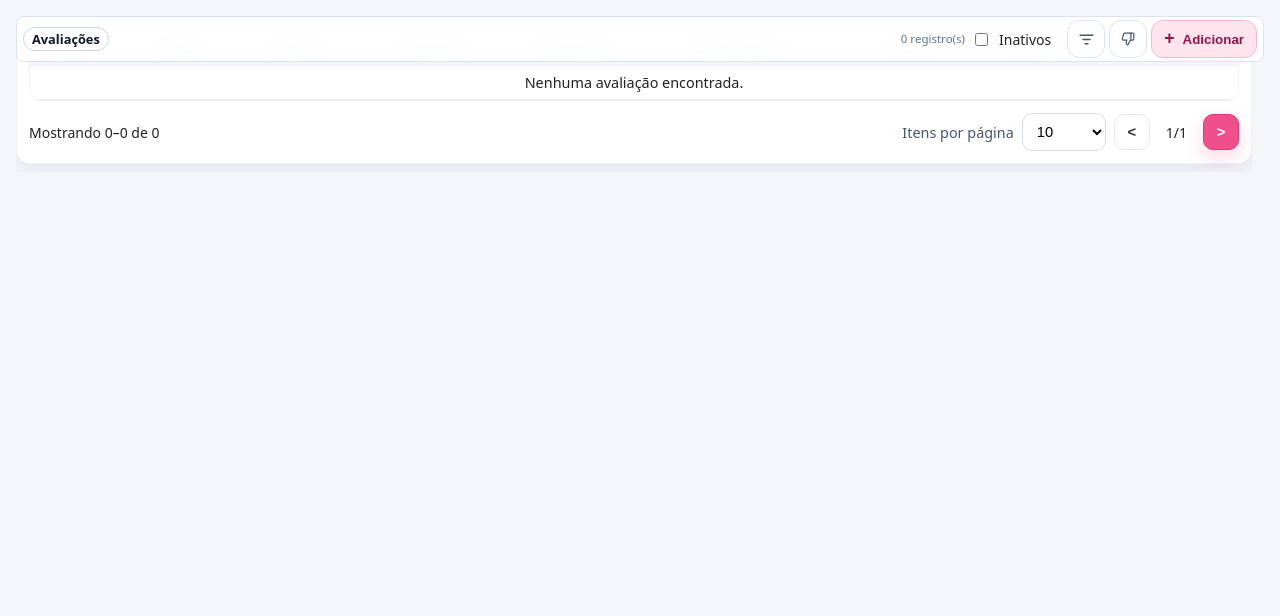
Test: Contrato de filtros da UI › avaliacoes expõem os criterios de filtro esperados
What coordinates should you click on to do the following:
click the button named "Abrir filtros"
I would click on:
 (1086, 39)
Its box is [1067,20,1105,58].
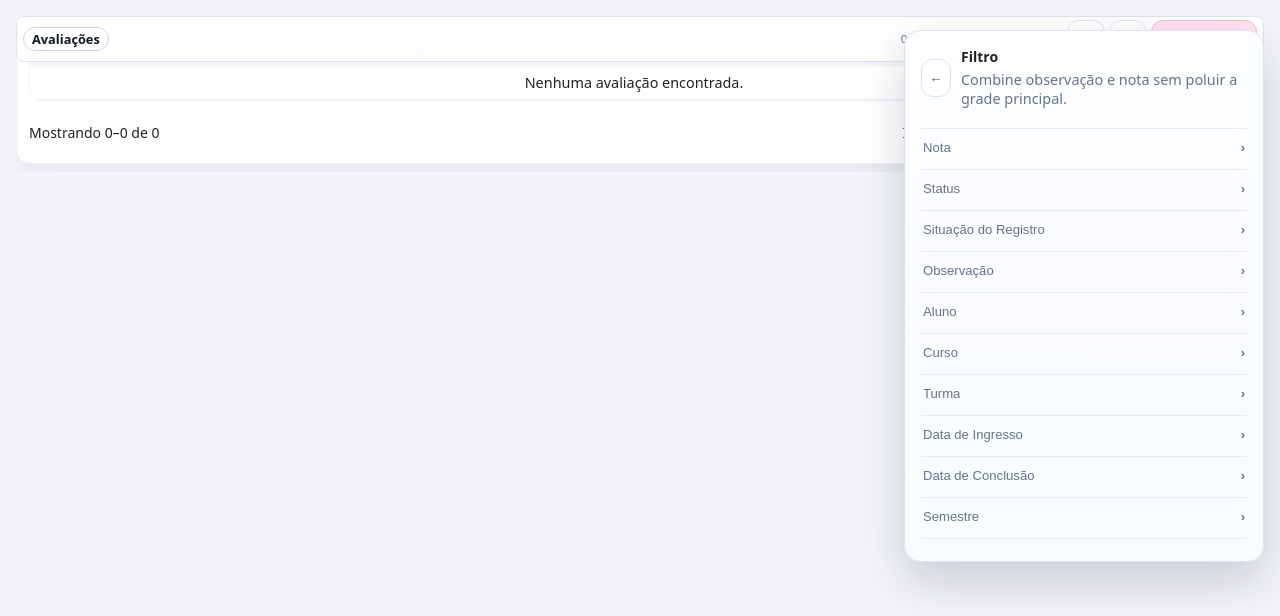
Check: the button "Nota ›" is shown, box [921,129,1247,170]
Check: the button "Status ›" is shown, box [921,170,1247,211]
Check: the button "Observação ›" is shown, box [921,252,1247,293]
